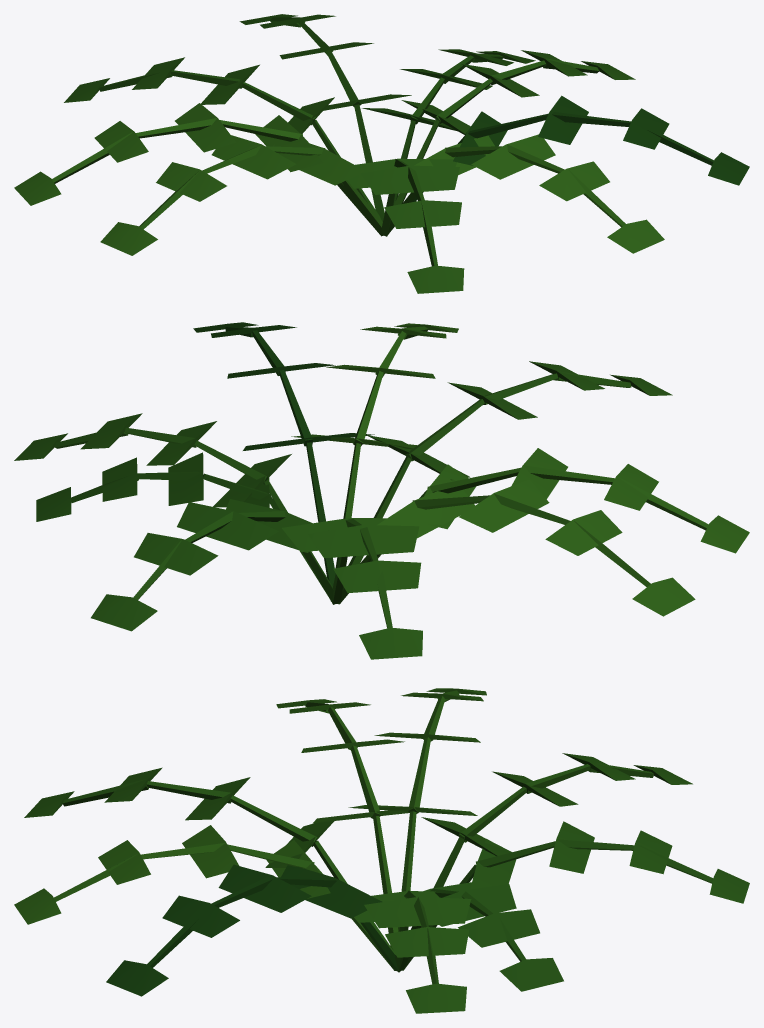
File: ground_fern_1.glb
3 views of the same model, one above another, from view 1: azimuth 30°, elevation 25°; view 2: azimuth 150°, elevation 25°; view 3: azimuth 270°, elevation 25° (orthographic). The views are drawn at different scales.
Visible parts, largest first — view 1: leaf; view 2: leaf; view 3: leaf.
Boxes of the visible parts, box(x1,y1,x2,y2) form: leaf: box(14, 14, 749, 293); leaf: box(14, 322, 749, 659); leaf: box(14, 688, 749, 1013).
Bounding box in the file's own units: 2.68 × 0.6243 × 2.66.
